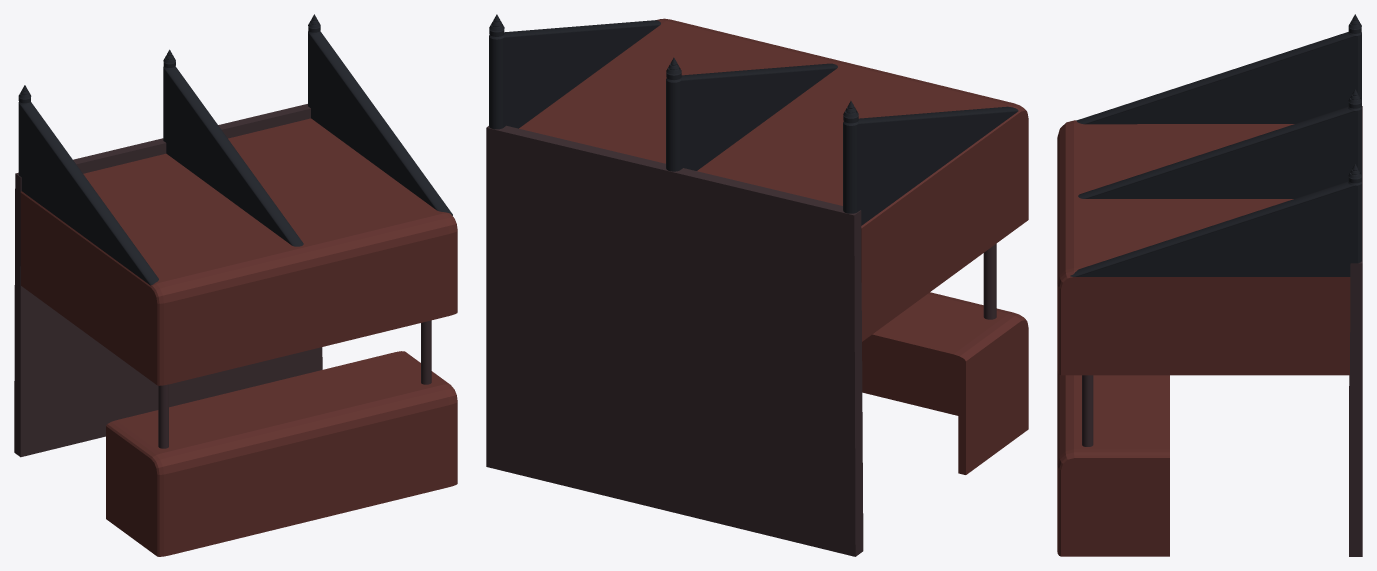
File: market stall.fbx
3 views of the same model, side by side, from view 1: azimuth 30°, elevation 25°; view 2: azimuth 150°, elevation 25°; view 3: azimuth 270°, elevation 25° (orthographic). The views are drawn at different scales.
Parts seen in each view (by area): view 1: Circle; view 2: Circle; view 3: Circle.
Boxes of the visible parts, <box> form: Circle: <box>14,14,457,556</box>; Circle: <box>486,14,1028,556</box>; Circle: <box>1057,14,1362,556</box>.
Bounding box in the file's own units: 657 × 766 × 542.
